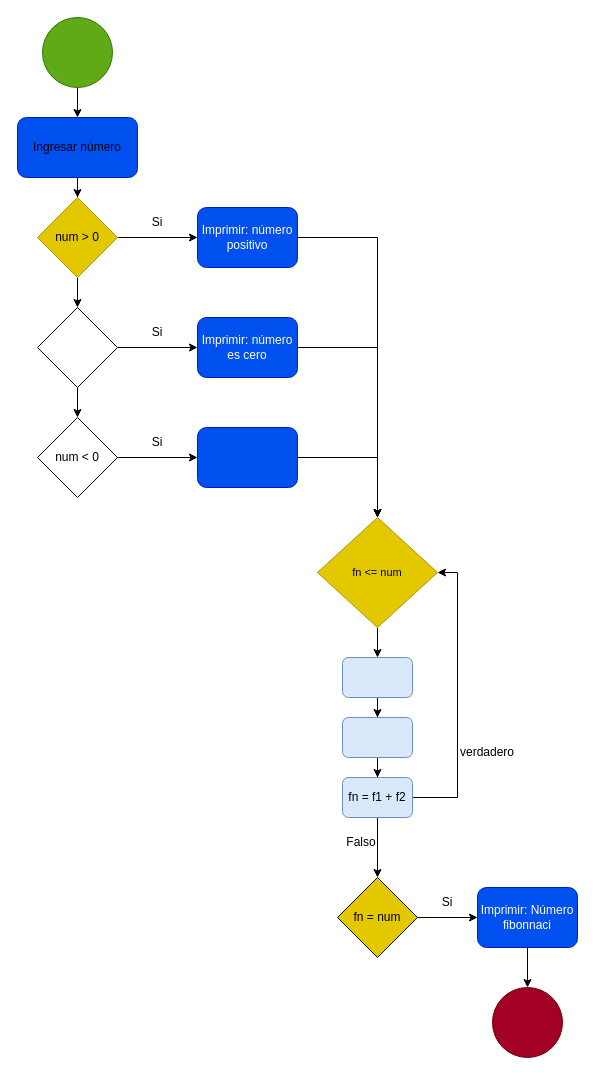
Some shapes in this 595 by 1075 pixel diagram are drawn without their labels. The box of each missing label's shape, as (x1, y1, x2, y2) in pixels:
f1 = fn: (342, 716, 412, 758)
f2 = f1: (342, 656, 412, 698)
Imprimir: número negativo: (196, 426, 298, 488)
num = 0: (36, 306, 118, 388)
